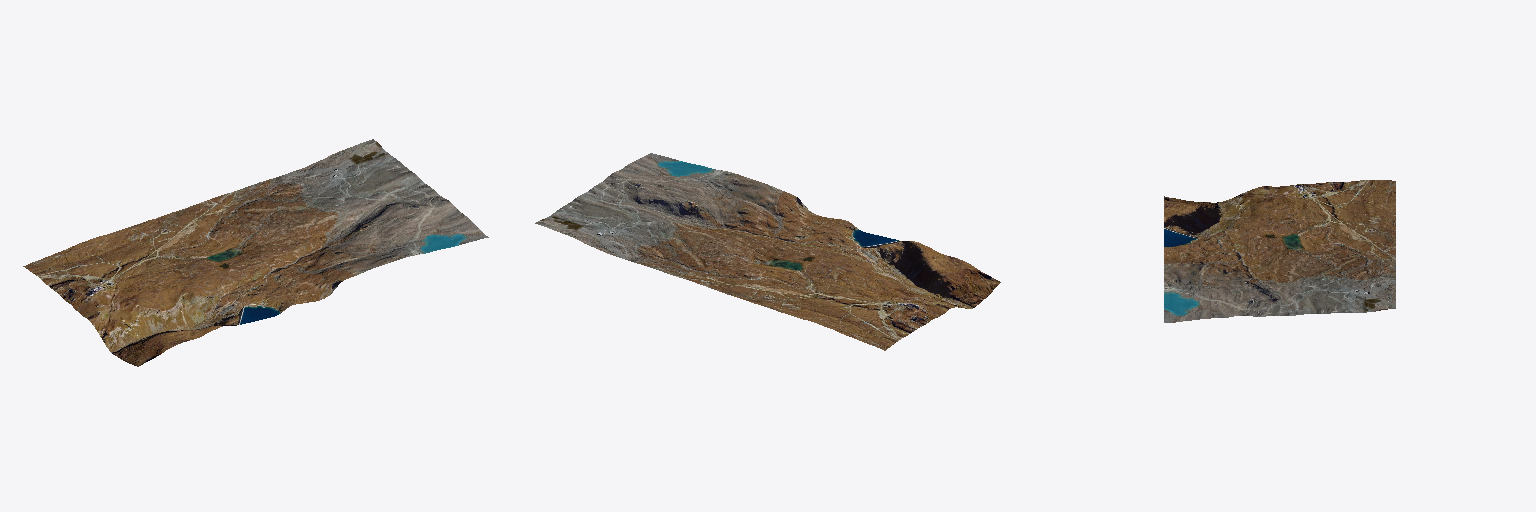
The picture shows the model from 3 angles: view 1: azimuth 30°, elevation 25°; view 2: azimuth 150°, elevation 25°; view 3: azimuth 270°, elevation 25°; orthographic projection.
Parts seen in each view (by area): view 1: EXPORT_GOOGLE_SAT_WM.006; view 2: EXPORT_GOOGLE_SAT_WM.006; view 3: EXPORT_GOOGLE_SAT_WM.006.
Boxes of the visible parts, box(x1,y1,x2,y2) form: EXPORT_GOOGLE_SAT_WM.006: box(23, 139, 488, 366); EXPORT_GOOGLE_SAT_WM.006: box(535, 153, 1000, 350); EXPORT_GOOGLE_SAT_WM.006: box(1164, 180, 1395, 322).
Bounding box in the file's own units: 5323 × 933 × 3041.
Materials: 1 (1 with a texture image).